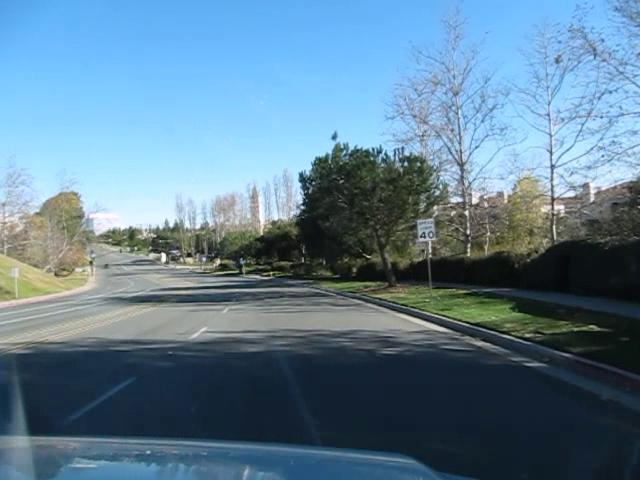speedLimit40: (416, 217, 437, 242)
